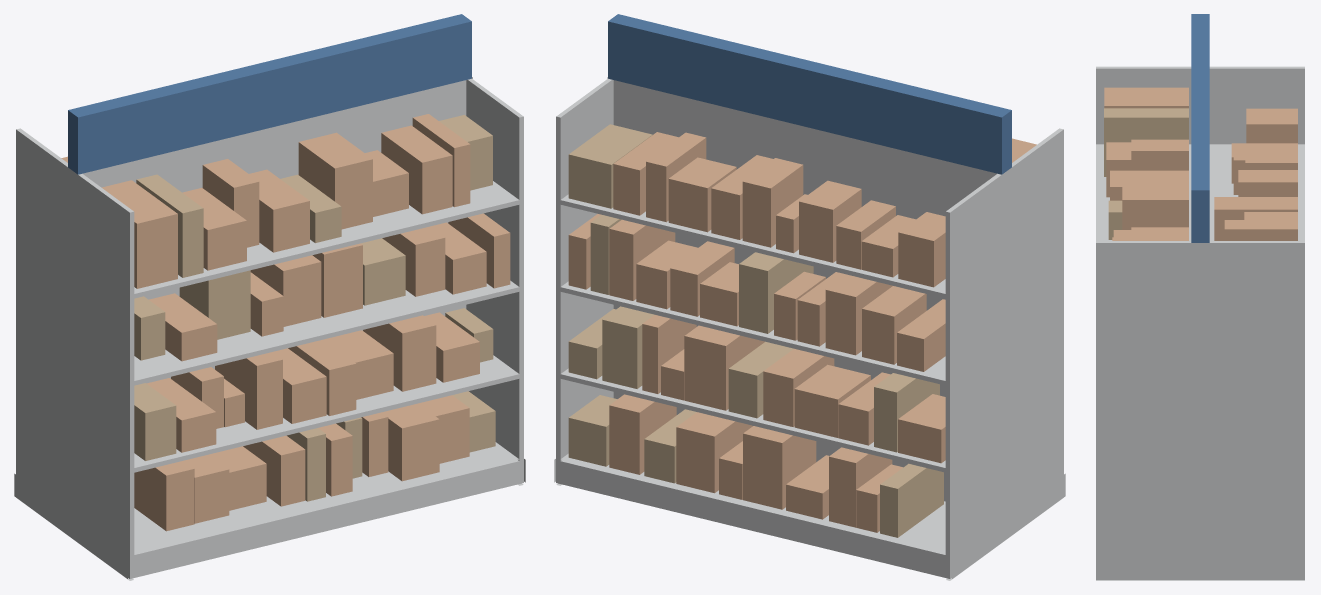
File: Shop_Gondola.fbx
3 views of the same model, side by side, from view 1: azimuth 30°, elevation 25°; view 2: azimuth 150°, elevation 25°; view 3: azimuth 270°, elevation 25° (orthographic). The views are drawn at different scales.
Parts seen in each view (by area): view 1: Shop_Gondola; view 2: Shop_Gondola; view 3: Shop_Gondola.
Part boxes in pixels (<box>): Shop_Gondola: <box>14,14,525,580</box>; Shop_Gondola: <box>554,14,1065,580</box>; Shop_Gondola: <box>1096,14,1304,580</box>.
Bounding box in the file's own units: 1.82 × 1.86 × 0.916.
